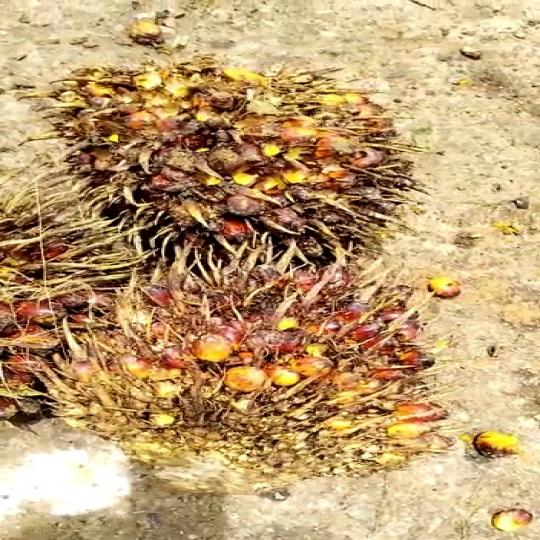masak: (46, 238, 473, 498), (38, 58, 408, 269)
